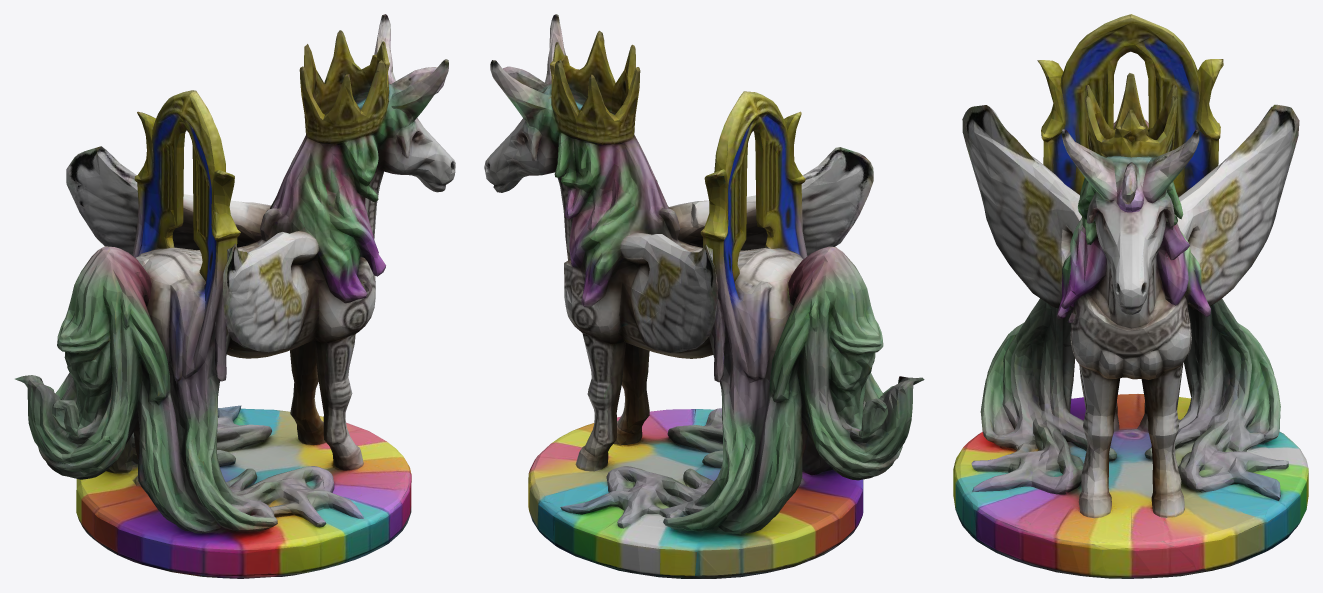
Rendered from auroracorn__rainbowBridgeWarden.glb.
3 views of the same model, side by side, from view 1: azimuth 30°, elevation 25°; view 2: azimuth 150°, elevation 25°; view 3: azimuth 270°, elevation 25° (orthographic). The views are drawn at different scales.
Visible parts, largest first — view 1: world; view 2: world; view 3: world.
Part boxes in pixels (bbox=[...]): world: bbox=[15, 14, 455, 578]; world: bbox=[484, 14, 924, 578]; world: bbox=[953, 14, 1308, 578].
Size of the model in its own units: 0.9976 by 0.988 by 0.6763.
1 material, 1 textured.
